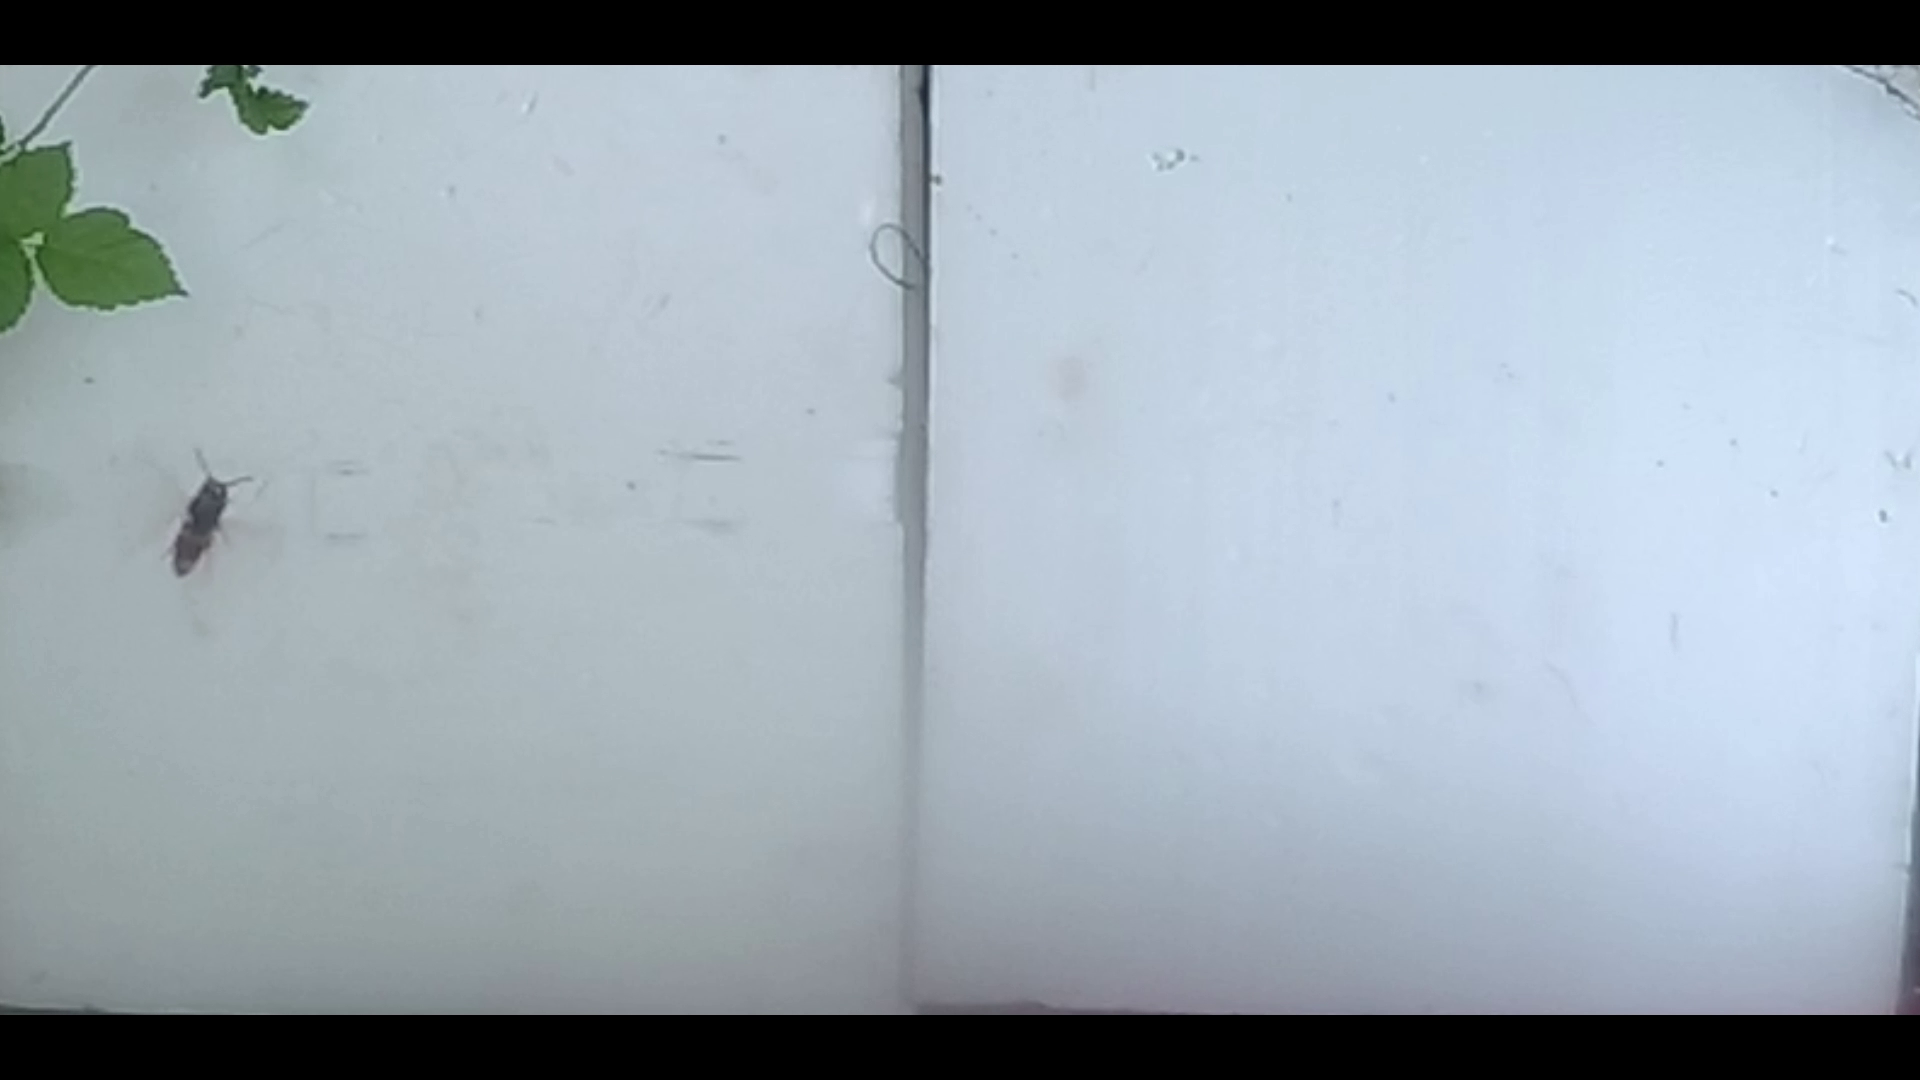Asian_hornets: (136, 442, 280, 601)
